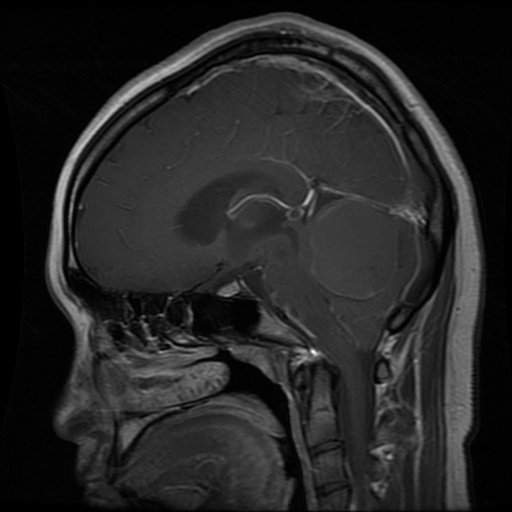glioma: (308, 202, 399, 302)
